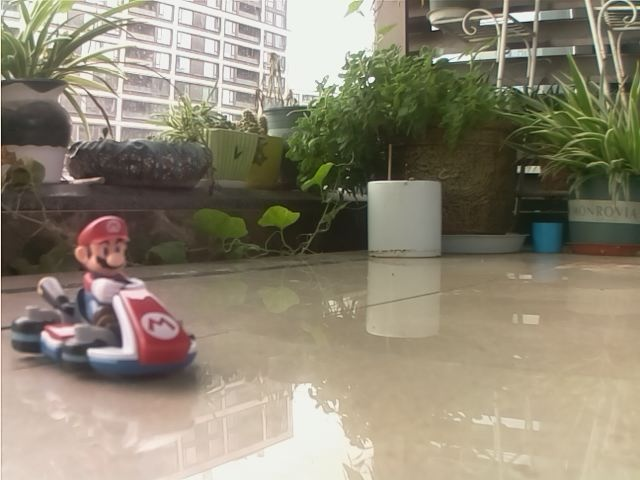mario: (10, 209, 207, 396)
